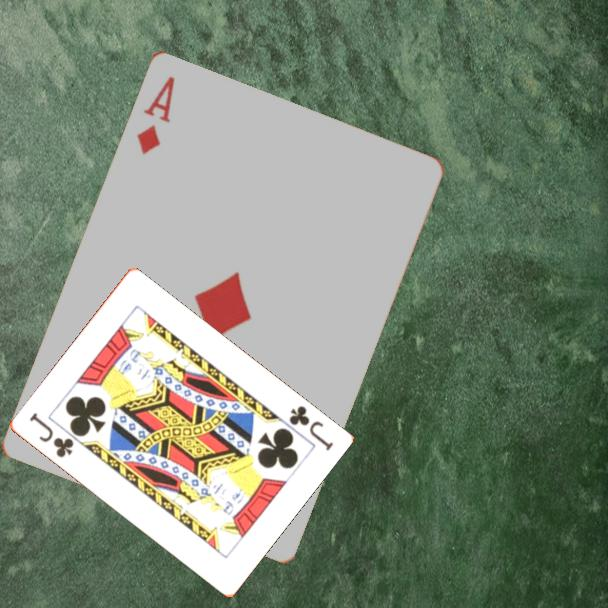c11: (25, 409, 76, 461), (285, 402, 336, 454)
d01: (132, 72, 178, 158)
